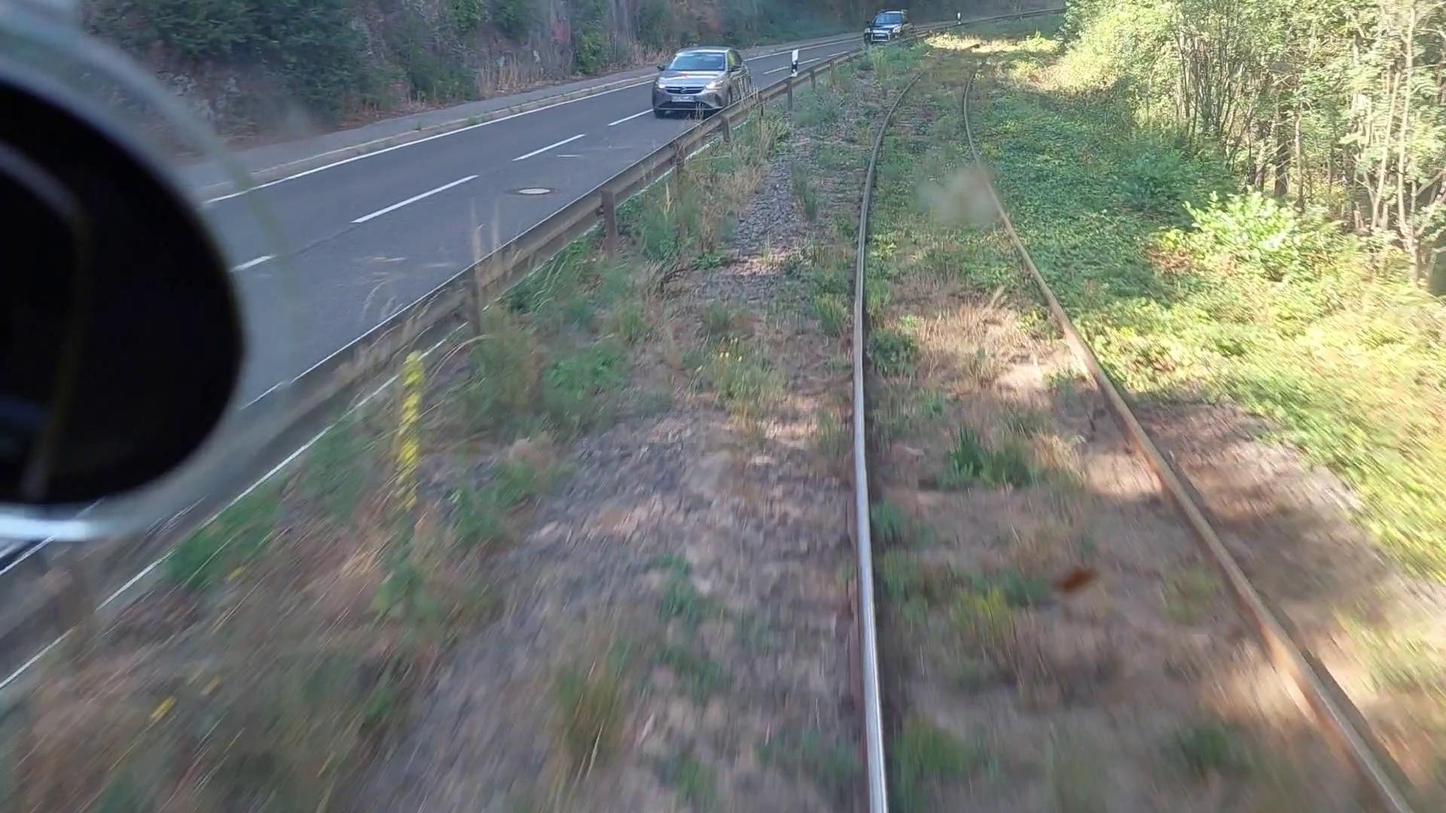Plant: (3, 25, 1026, 810), (966, 66, 1443, 583), (859, 46, 1067, 383), (555, 548, 801, 813), (873, 507, 1061, 806), (751, 719, 861, 813), (1152, 710, 1278, 786), (915, 434, 1035, 492), (865, 387, 948, 450), (1161, 561, 1217, 622)
